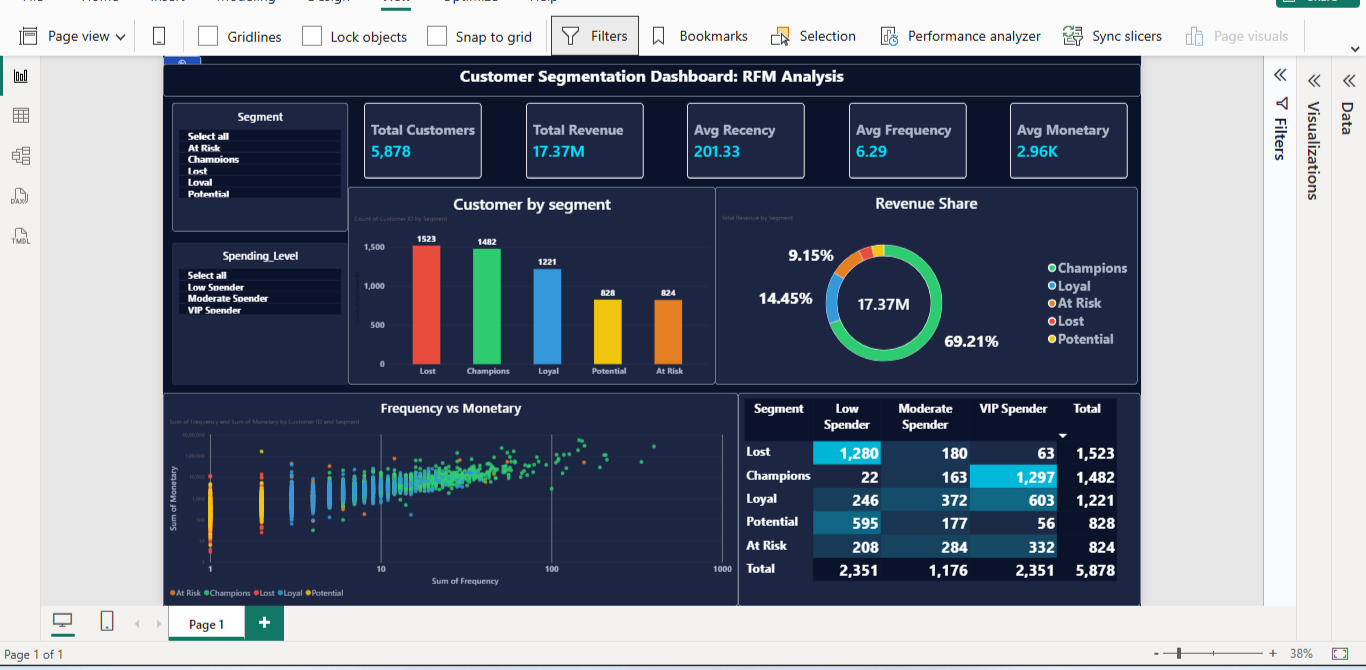

The dashboard page shown, as its layout file describes it:
{"tool":"powerbi","page":{"name":"Page 1","canvas":[2560,1440],"ordinal":0},"visuals":[{"type":"actionButton","box":[0,0,100,40],"z":0},{"type":"textbox","box":[0,20.2,2560.3,86.4],"z":1000},{"type":"cardVisual","fields":{"Data":["RFM_Analysis_Final.Total Customers Display"]},"box":[526.5,123.8,308.2,198.7],"z":2000},{"type":"cardVisual","fields":{"Data":["Sum(RFM_Analysis_Final.Monetary)"]},"box":[949.2,123.8,308.2,198.7],"z":3000},{"type":"cardVisual","fields":{"Data":["Avg(RFM_Analysis_Final.Recency)"]},"box":[1372,123.8,308.2,198.7],"z":4000},{"type":"cardVisual","fields":{"Data":["Avg(RFM_Analysis_Final.Frequency)"]},"box":[1794.8,123.8,308.2,198.7],"z":5000},{"type":"listSlicer","fields":{"Values":["RFM_Analysis_Final.Segment"]},"box":[23,123.8,460.8,337],"z":7000},{"type":"cardVisual","fields":{"Data":["Avg(RFM_Analysis_Final.Monetary)"]},"box":[2217.6,123.8,308.2,198.7],"z":7001},{"type":"clusteredColumnChart","title":"Customer by segment","fields":{"Category":["RFM_Analysis_Final.Segment"],"Y":["CountNonNull(RFM_Analysis_Final.Customer ID)"]},"box":[483.8,342.7,961.9,518.4],"z":7002},{"type":"donutChart","title":"Revenue Share","fields":{"Category":["RFM_Analysis_Final.Segment"],"Y":["RFM_Analysis_Final.Total Revenue"]},"box":[1445.8,342.7,1105.9,518.4],"z":7003},{"type":"pivotTable","fields":{"Columns":["RFM_Analysis_Final.Spending_Level"],"Rows":["RFM_Analysis_Final.Segment"],"Values":["RFM_Analysis_Final.Total Customers"]},"box":[1506.2,881.3,1054.1,558.7],"z":7004},{"type":"scatterChart","title":"Frequency vs Monetary","fields":{"Category":["RFM_Analysis_Final.Customer ID"],"Series":["RFM_Analysis_Final.Segment"],"X":["Sum(RFM_Analysis_Final.Frequency)"],"Y":["Sum(RFM_Analysis_Final.Monetary)"]},"box":[0,881.3,1506.2,558.7],"z":7005},{"type":"listSlicer","fields":{"Values":["RFM_Analysis_Final.Spending_Level"]},"box":[23,489.6,460.8,371.5],"z":7006}]}

Visuals, with their boxes on the page's 2560x1440 design canvas (x1, y1, x2, y2). These are canvas units, not pixel positions in the 1366x670 screenshot, which may show the page scaled, cropped or inside an application window:
actionButton: box(0, 0, 100, 40)
textbox: box(0, 20, 2560, 107)
cardVisual - RFM_Analysis_Final.Total Customers Display: box(526, 124, 835, 322)
cardVisual - Sum(RFM_Analysis_Final.Monetary): box(949, 124, 1257, 322)
cardVisual - Avg(RFM_Analysis_Final.Recency): box(1372, 124, 1680, 322)
cardVisual - Avg(RFM_Analysis_Final.Frequency): box(1795, 124, 2103, 322)
listSlicer - RFM_Analysis_Final.Segment: box(23, 124, 484, 461)
cardVisual - Avg(RFM_Analysis_Final.Monetary): box(2218, 124, 2526, 322)
"Customer by segment" clusteredColumnChart: box(484, 343, 1446, 861)
"Revenue Share" donutChart: box(1446, 343, 2552, 861)
pivotTable - RFM_Analysis_Final.Spending_Level x RFM_Analysis_Final.Segment: box(1506, 881, 2560, 1440)
"Frequency vs Monetary" scatterChart: box(0, 881, 1506, 1440)
listSlicer - RFM_Analysis_Final.Spending_Level: box(23, 490, 484, 861)
